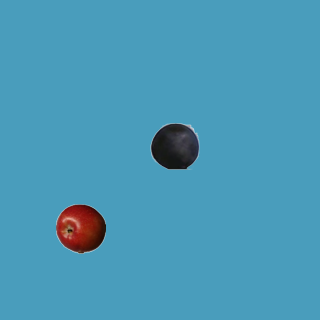Apple Braeburn: (55, 203, 105, 253)
Grape Blue: (149, 120, 199, 170)
